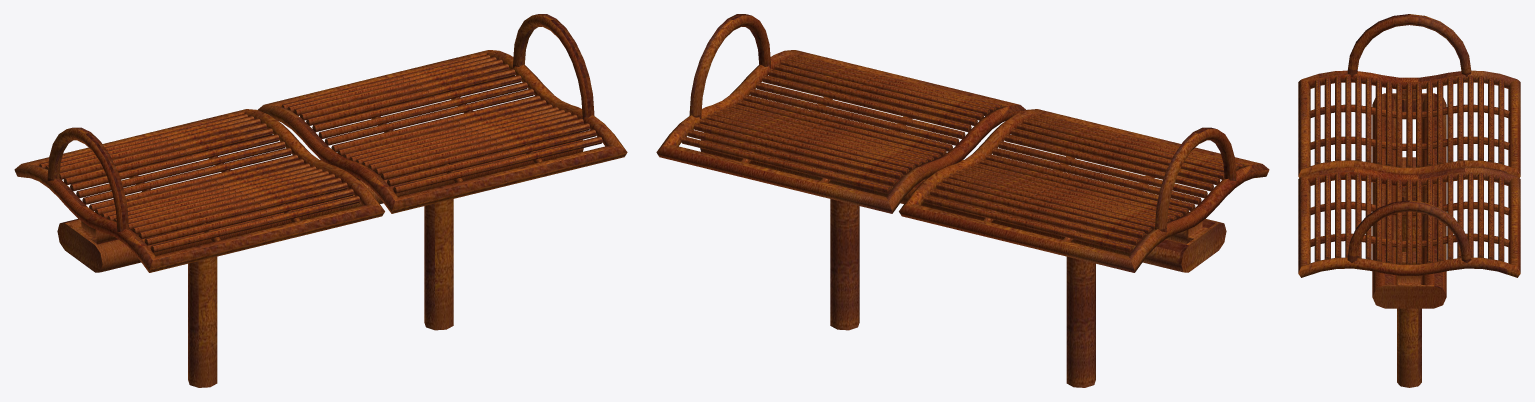
3 renders of one model, left to right at view 1: azimuth 30°, elevation 25°; view 2: azimuth 150°, elevation 25°; view 3: azimuth 270°, elevation 25°, orthographic. The views are drawn at different scales.
Visible parts, largest first — view 1: mesh10_mesh10-geometry, mesh18_mesh18-geometry, mesh7_mesh7-geometry, mesh27_mesh27-geometry, mesh1_mesh1-geometry, mesh4_mesh4-geometry; view 2: mesh10_mesh10-geometry, mesh18_mesh18-geometry, mesh7_mesh7-geometry, mesh27_mesh27-geometry, mesh1_mesh1-geometry, mesh4_mesh4-geometry; view 3: mesh10_mesh10-geometry, mesh18_mesh18-geometry, mesh27_mesh27-geometry, mesh1_mesh1-geometry, mesh17_mesh17-geometry, mesh7_mesh7-geometry, mesh4_mesh4-geometry, mesh13_mesh13-geometry.
Boxes of the visible parts, <box> form: mesh10_mesh10-geometry: <box>39,54,602,252</box>; mesh18_mesh18-geometry: <box>14,50,627,272</box>; mesh7_mesh7-geometry: <box>188,199,453,387</box>; mesh27_mesh27-geometry: <box>47,14,594,232</box>; mesh1_mesh1-geometry: <box>63,133,580,271</box>; mesh4_mesh4-geometry: <box>57,139,583,272</box>; mesh10_mesh10-geometry: <box>681,54,1244,252</box>; mesh18_mesh18-geometry: <box>656,50,1269,272</box>; mesh7_mesh7-geometry: <box>830,199,1095,387</box>; mesh27_mesh27-geometry: <box>689,14,1236,232</box>; mesh1_mesh1-geometry: <box>703,133,1220,271</box>; mesh4_mesh4-geometry: <box>700,132,1226,272</box>; mesh10_mesh10-geometry: <box>1314,76,1504,264</box>; mesh18_mesh18-geometry: <box>1298,70,1520,277</box>; mesh27_mesh27-geometry: <box>1347,14,1471,262</box>; mesh1_mesh1-geometry: <box>1372,94,1446,295</box>; mesh17_mesh17-geometry: <box>1309,104,1509,248</box>; mesh7_mesh7-geometry: <box>1397,157,1421,387</box>; mesh4_mesh4-geometry: <box>1372,93,1446,308</box>; mesh13_mesh13-geometry: <box>1397,89,1421,284</box>.
Bounding box in the file's own units: 0.806 × 0.4425 × 0.3931.
